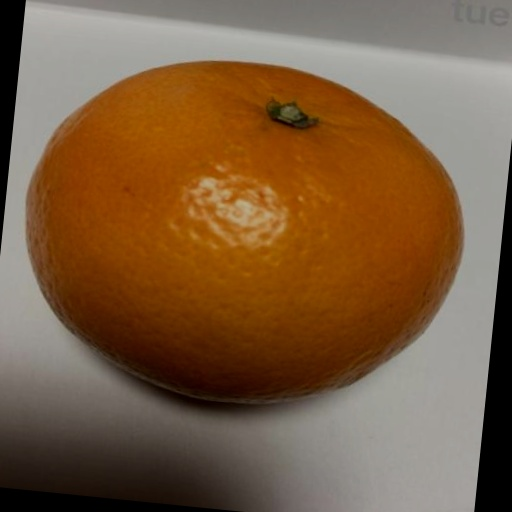fruit: (27, 61, 463, 402)
